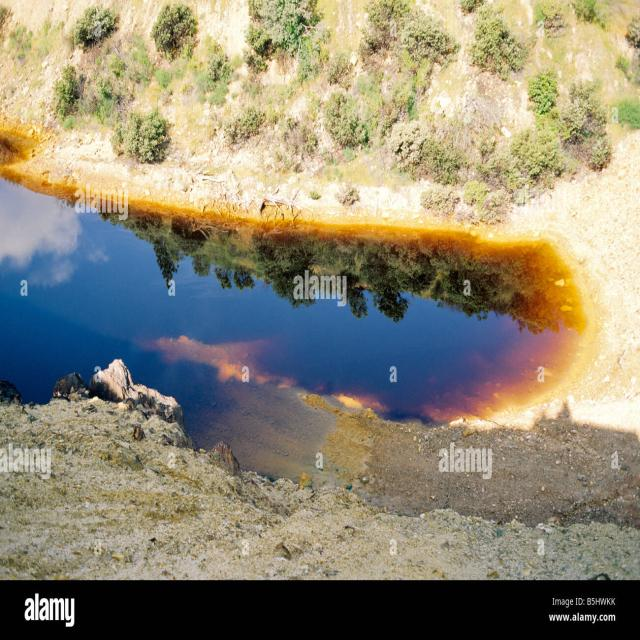yellow_boy: (0, 181, 581, 442)
